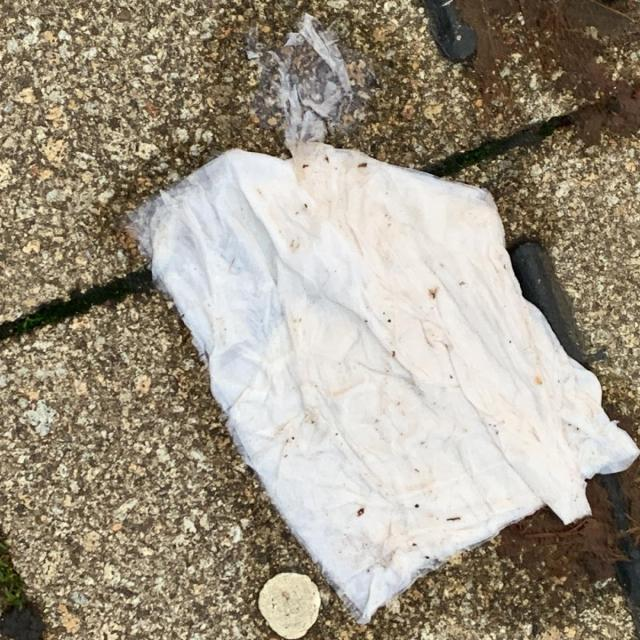Paper: (122, 10, 640, 629)
